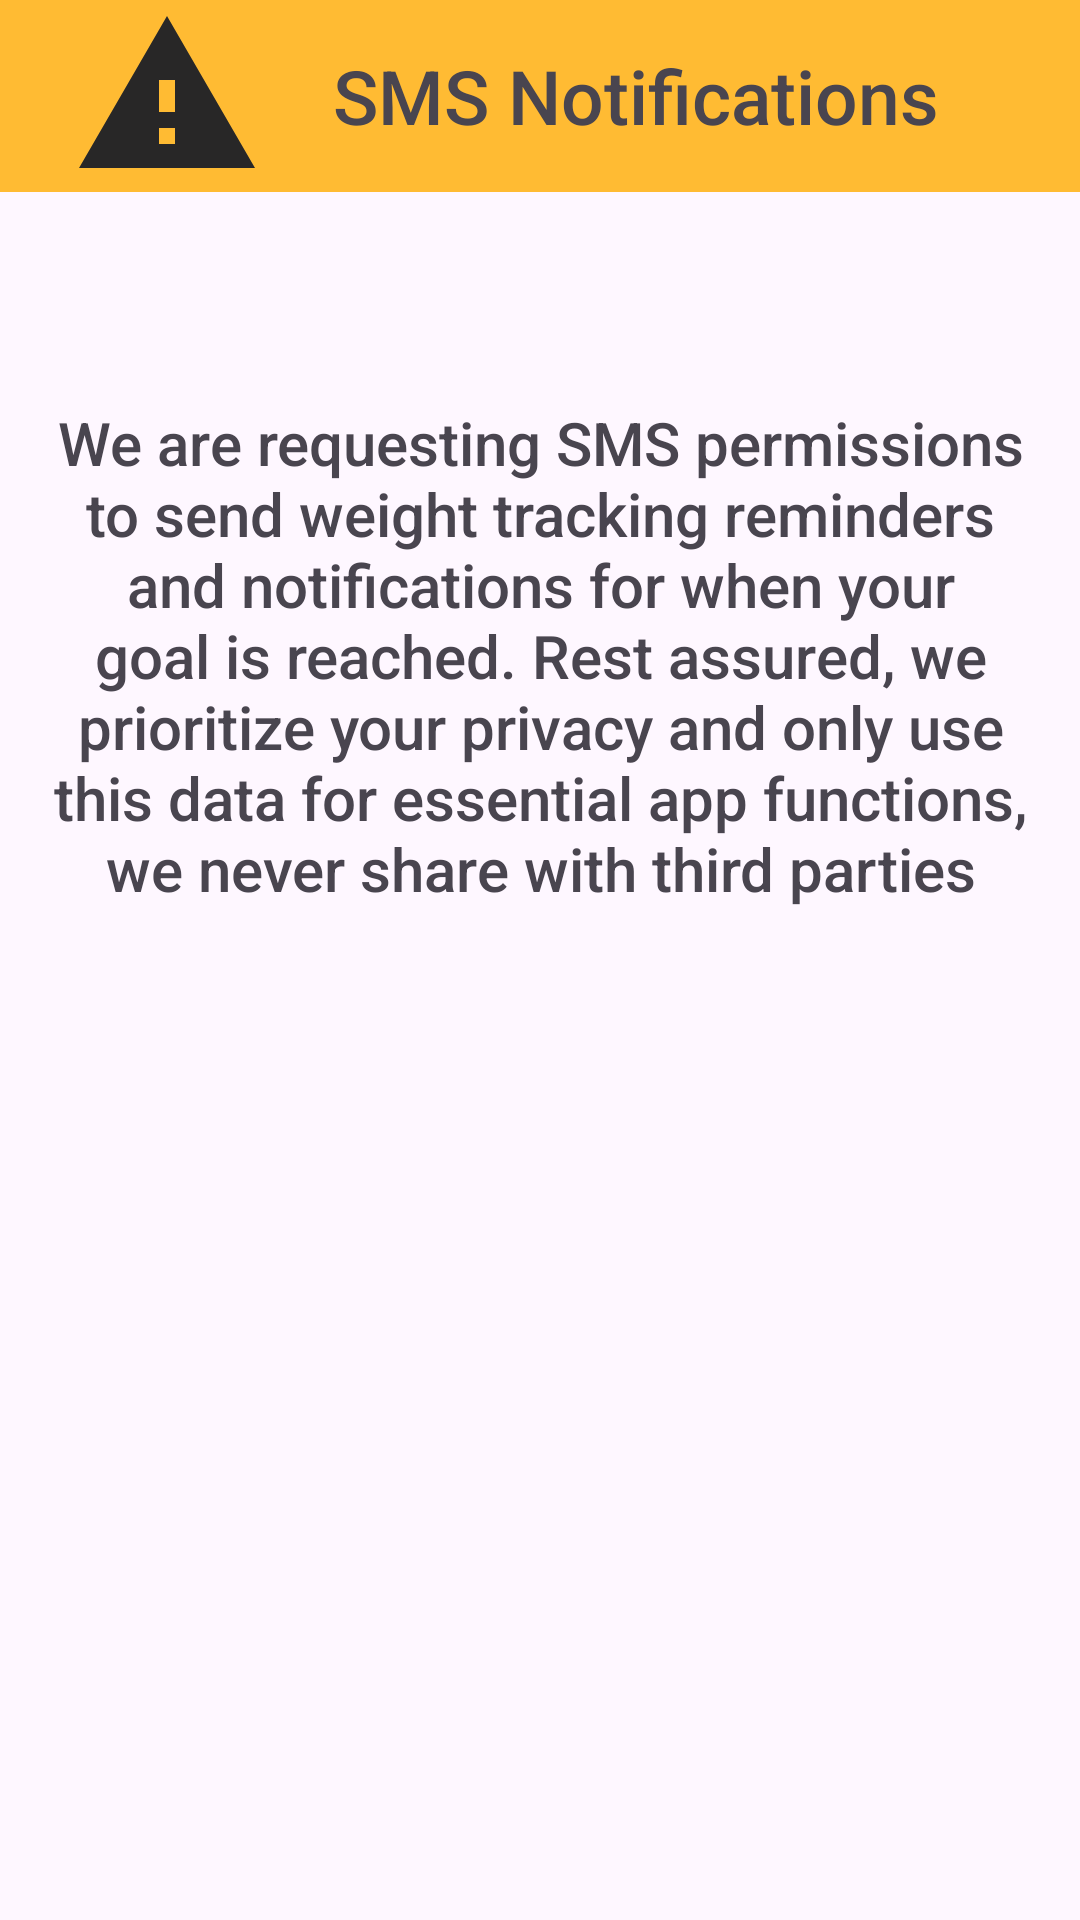

Icon bounding boxes for this 1080×1920 phone screenshot, format (x1, y1, x2, y2):
warning: (79, 16, 255, 168)
